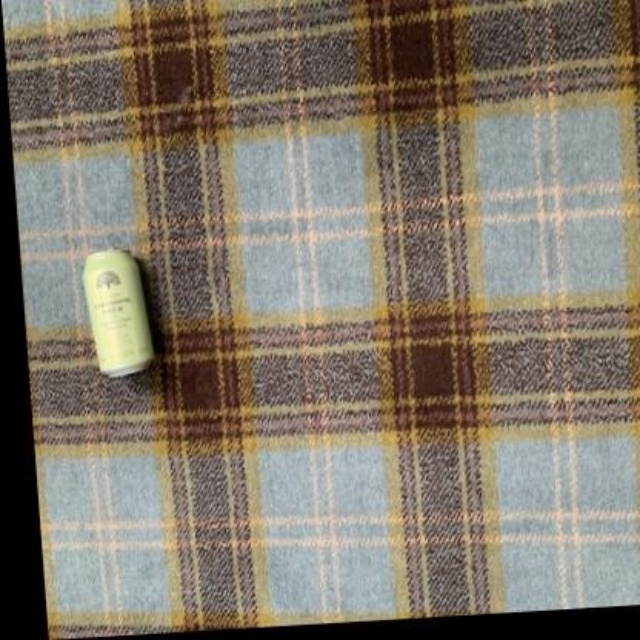trash: (83, 249, 152, 375)
